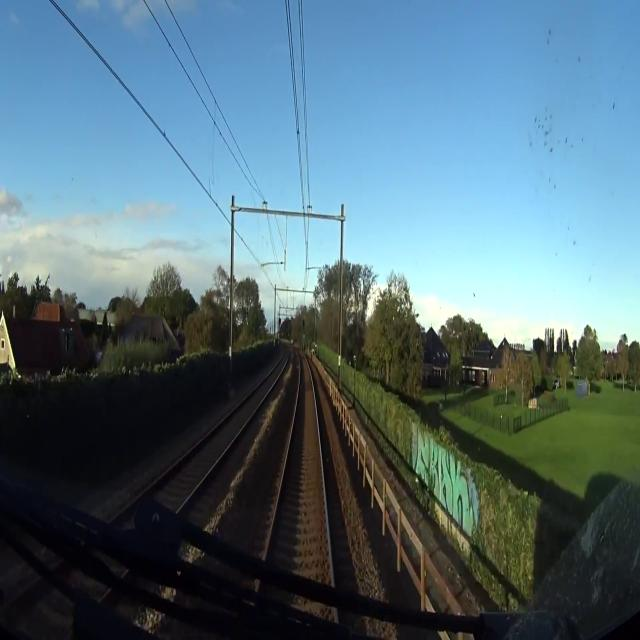rail-track: (148, 348, 287, 509), (268, 354, 330, 583), (106, 497, 142, 535)
